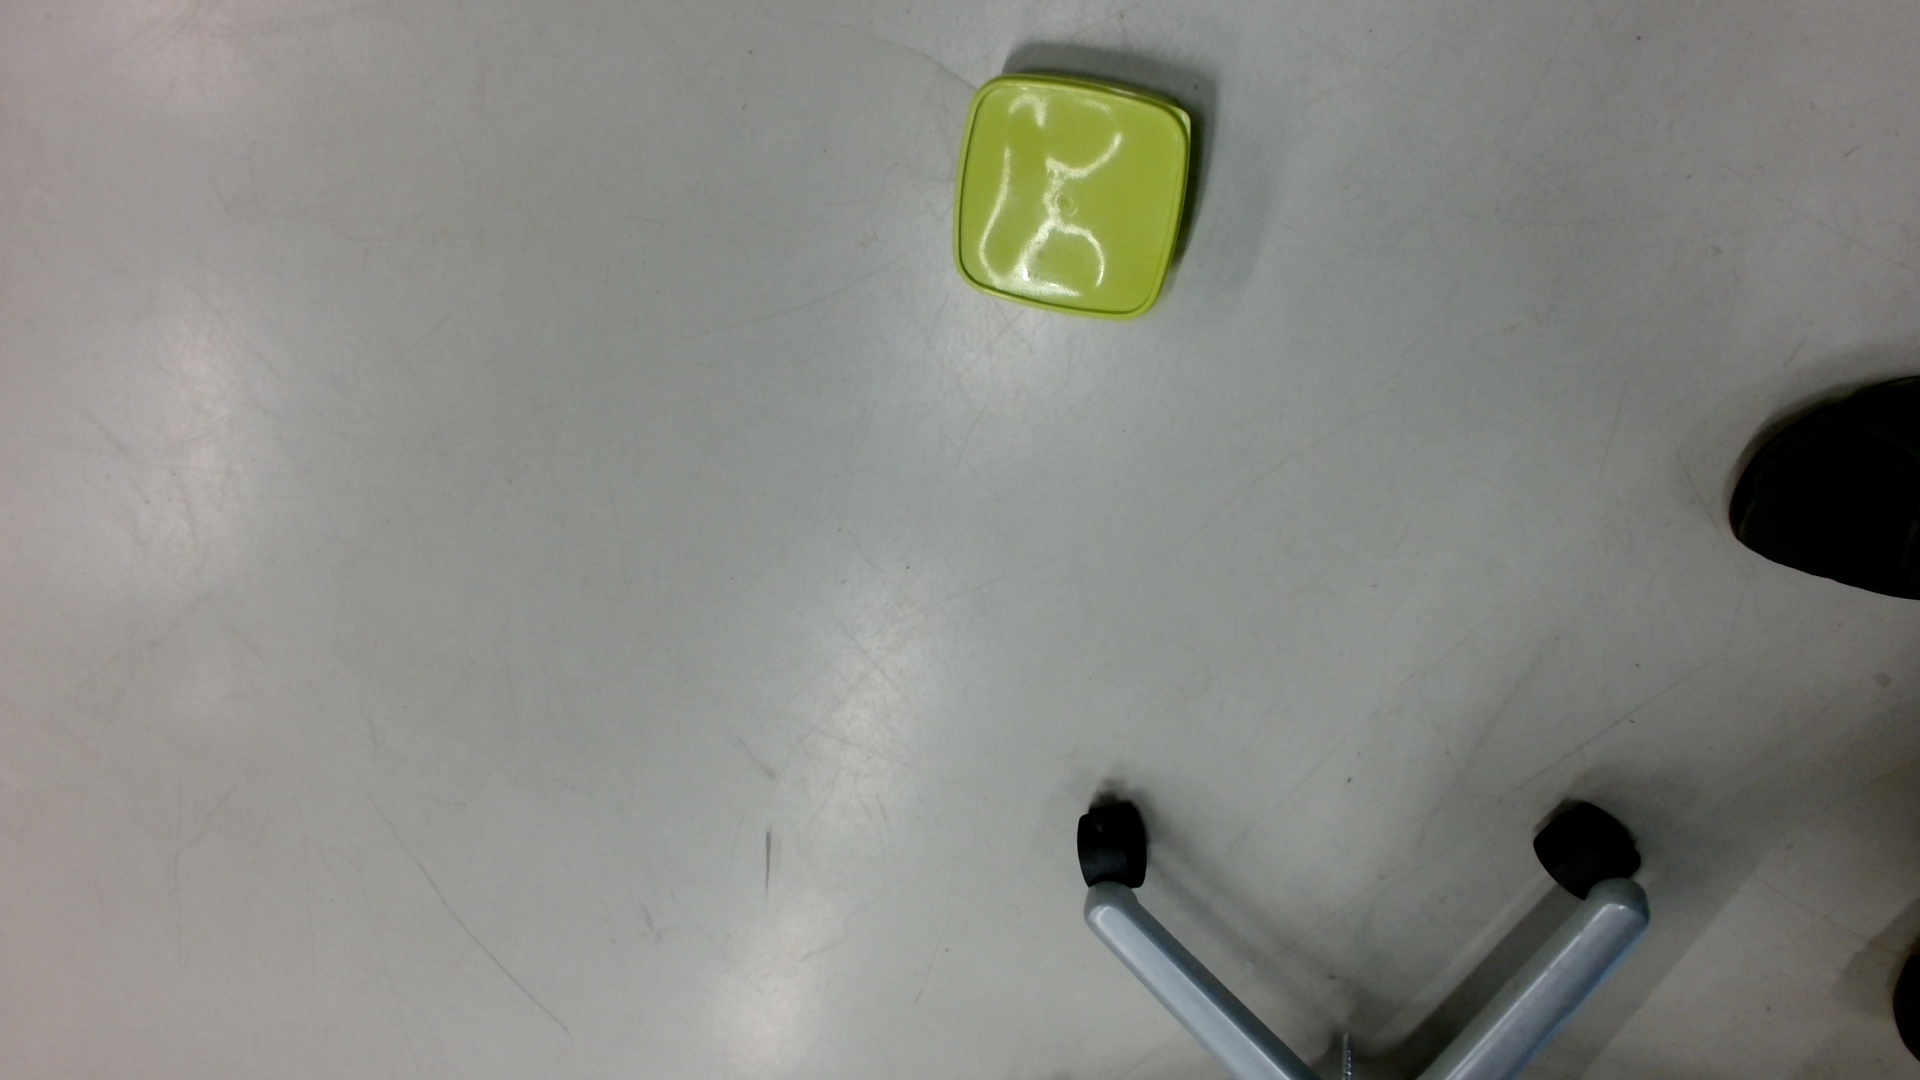Box: (941, 70, 1200, 326)
